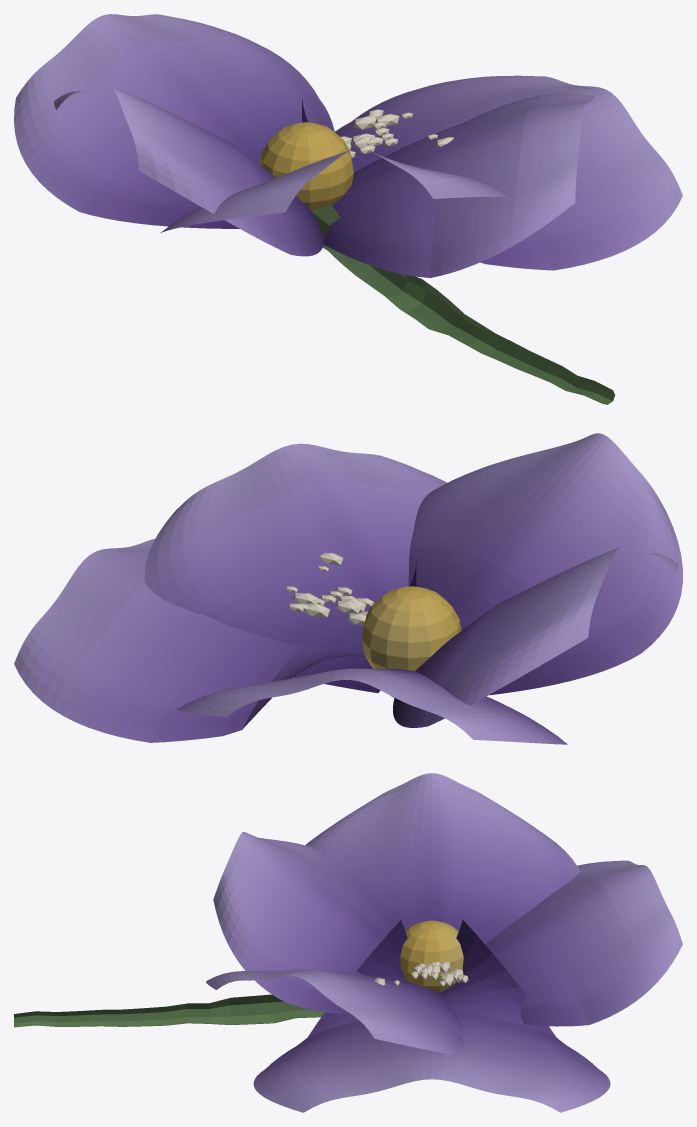
The model's file is Violet_A.glb.
The picture shows the model from 3 angles, top to bottom: view 1: azimuth 30°, elevation 25°; view 2: azimuth 150°, elevation 25°; view 3: azimuth 270°, elevation 25°; orthographic projection. The views are drawn at different scales.
Visible parts, largest first — view 1: Violet_A; view 2: Violet_A; view 3: Violet_A.
Boxes of the visible parts, x1=… form: Violet_A: x1=14, y1=14, x2=682, y2=404; Violet_A: x1=14, y1=433, x2=682, y2=744; Violet_A: x1=14, y1=773, x2=682, y2=1112.
Bounding box in the file's own units: 0.6163 × 0.2361 × 0.8482.
